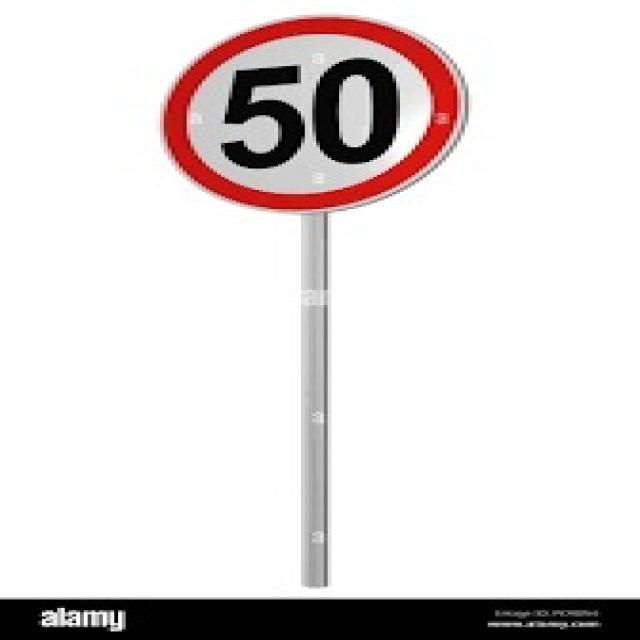speed_limit_50: (137, 11, 496, 215)
